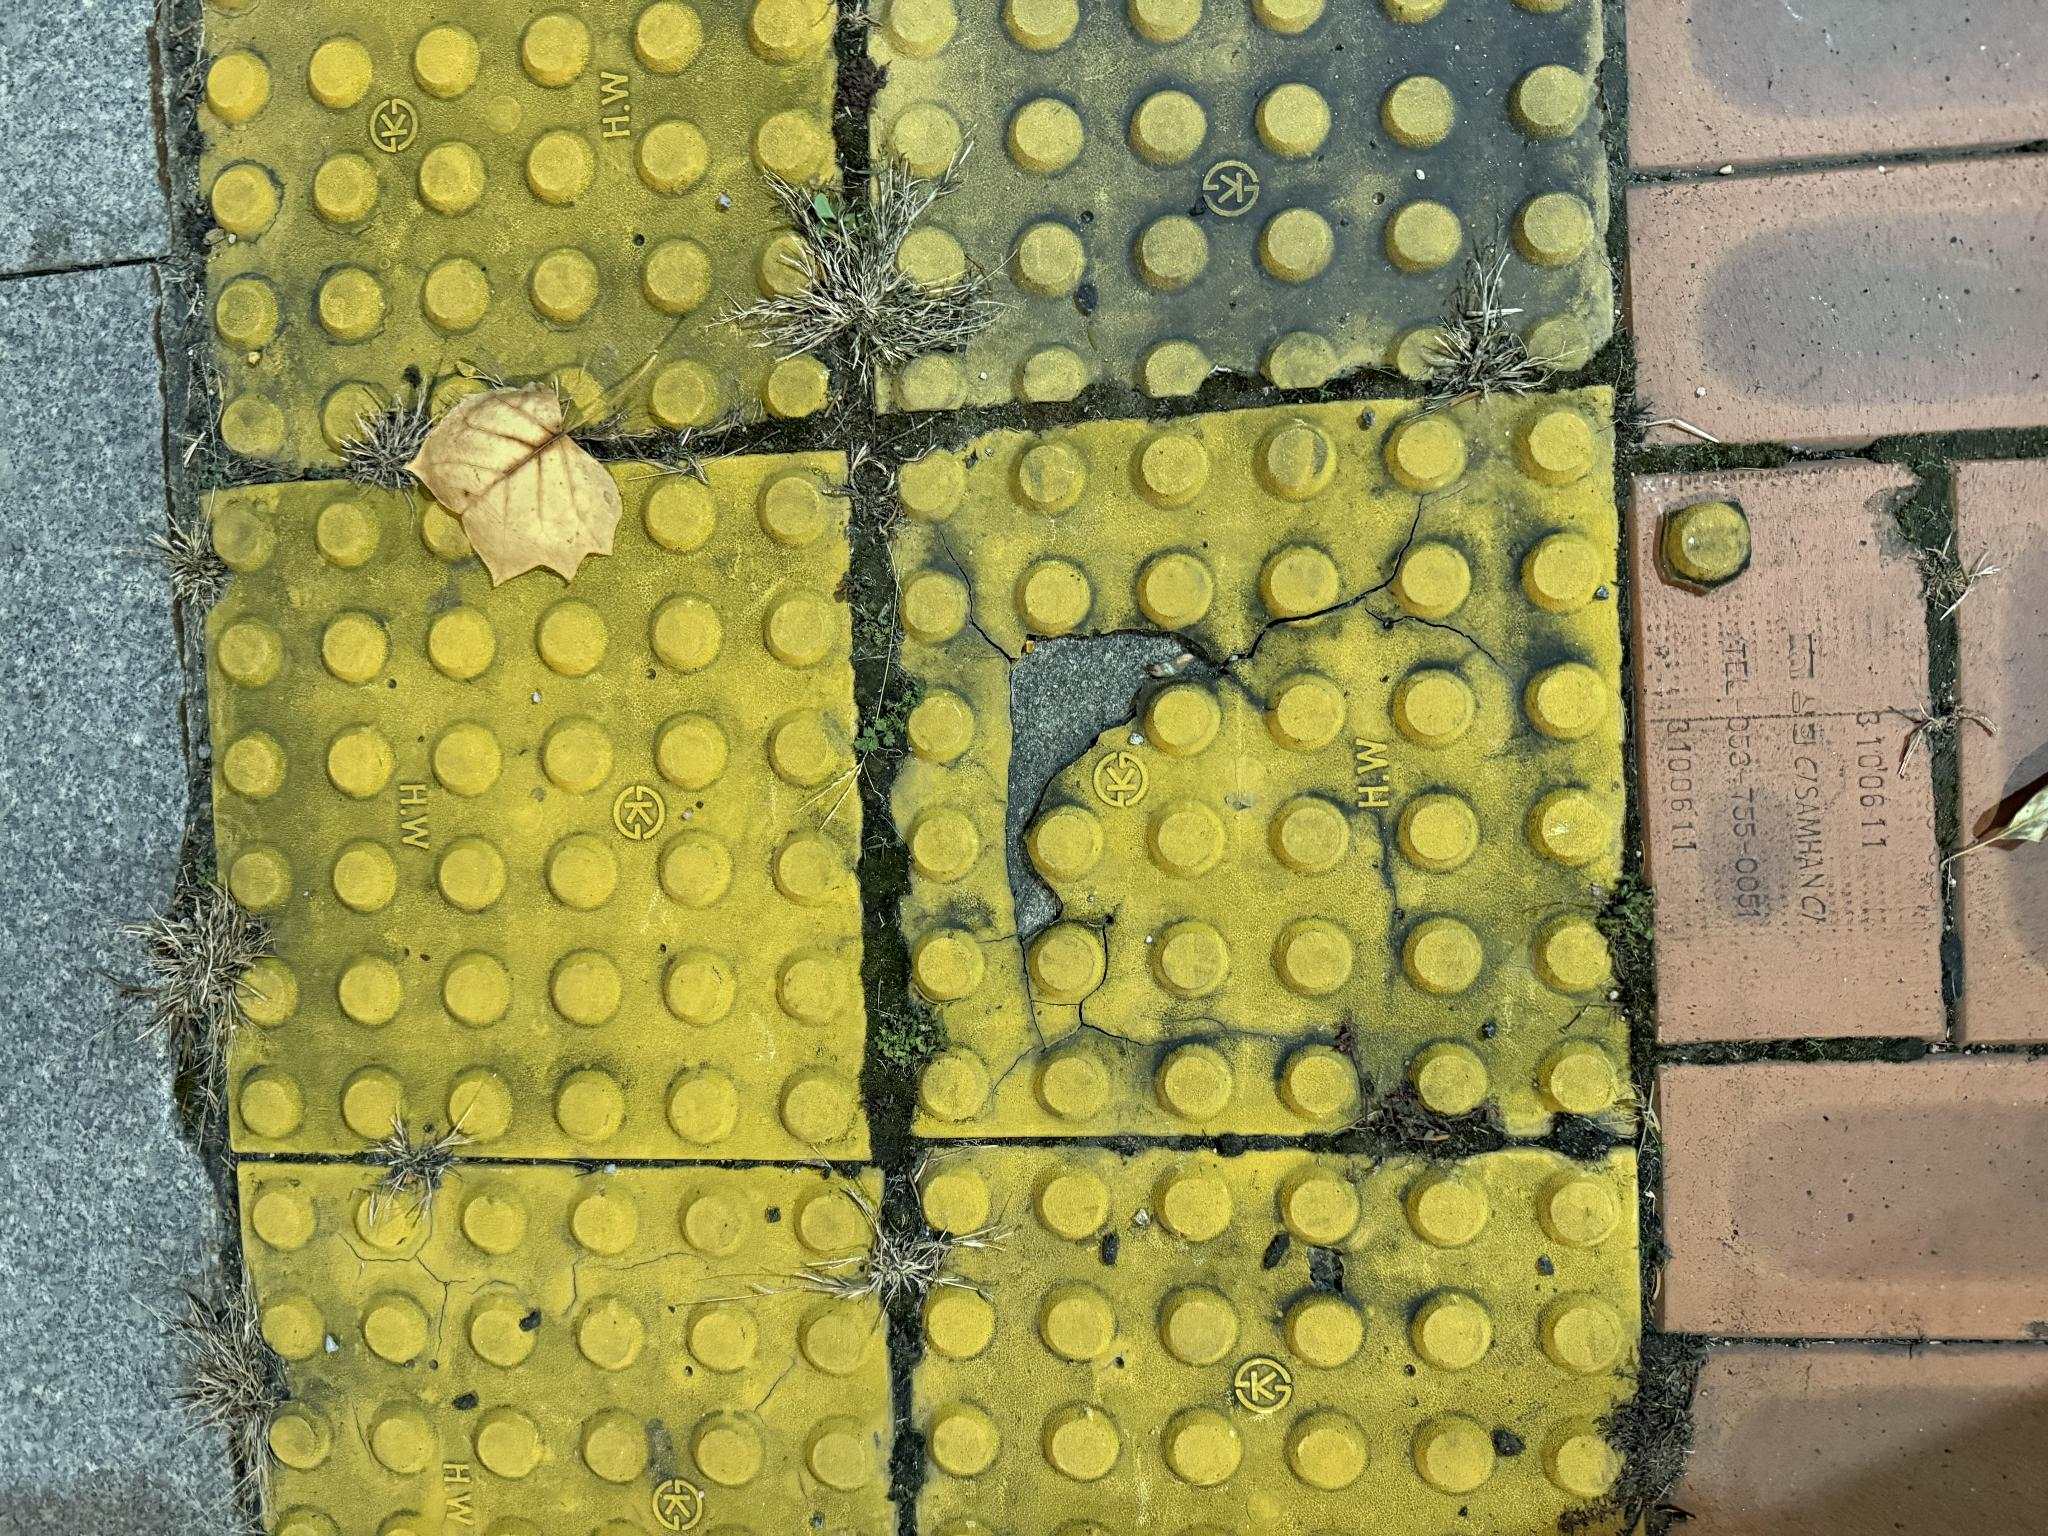Stop block broken: (403, 912, 1116, 1536)
Stop block normal: (382, 207, 1074, 857)
